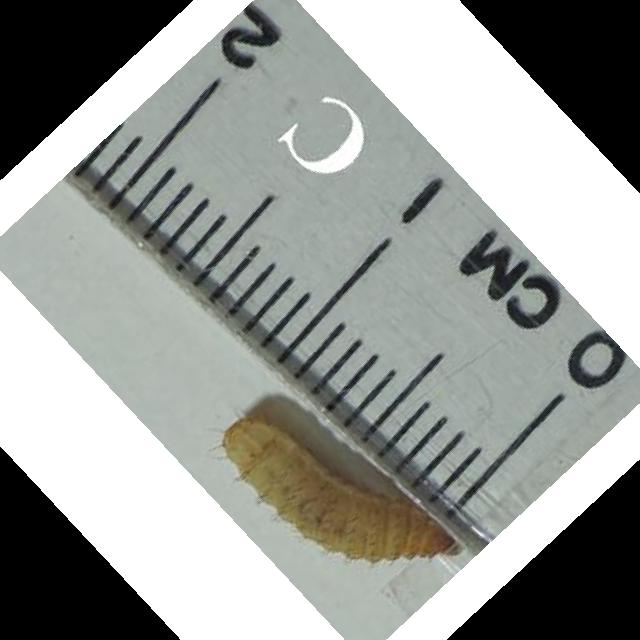Maggot: (220, 416, 460, 565)
